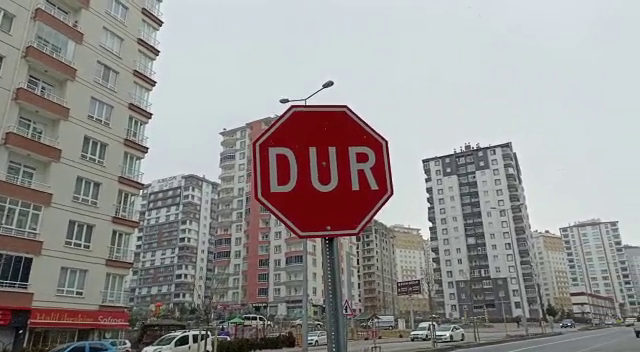stop: (249, 103, 396, 240)
